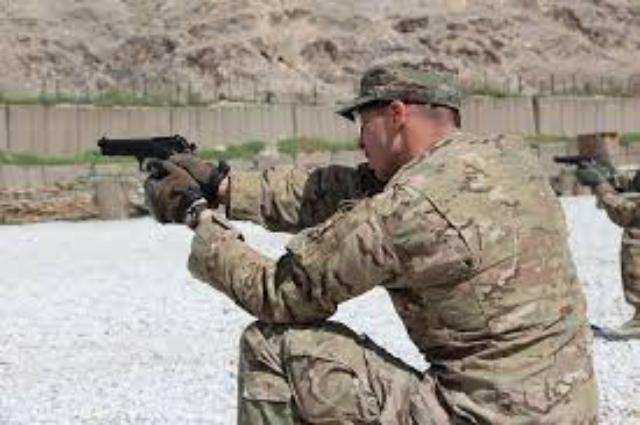other: (316, 65, 544, 424)
